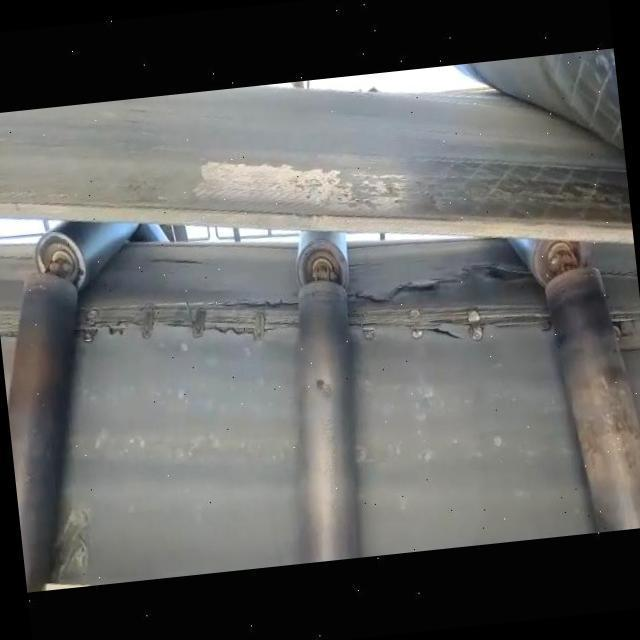Tear: (346, 263, 556, 354), (75, 294, 306, 342), (147, 252, 204, 274)
